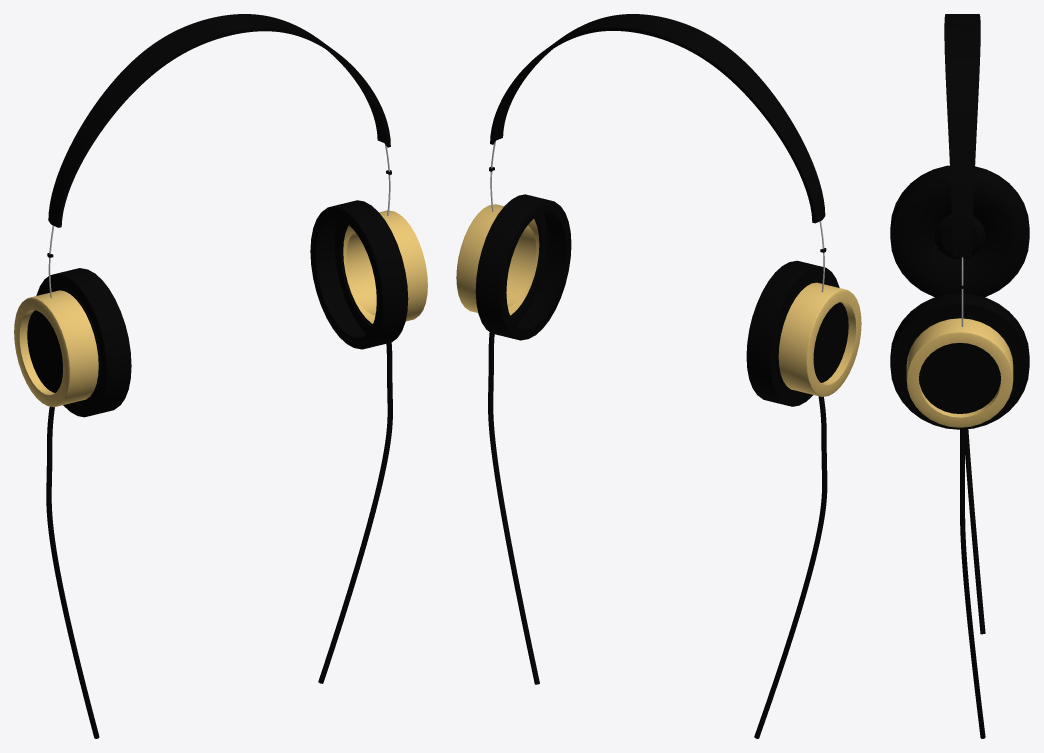
3 views of the same model, side by side, from view 1: azimuth 30°, elevation 25°; view 2: azimuth 150°, elevation 25°; view 3: azimuth 270°, elevation 25° (orthographic). The views are drawn at different scales.
Parts seen in each view (by area): view 1: Circle.004; view 2: Circle.004; view 3: Circle.004.
Boxes of the visible parts, left/top/right/bottom form: Circle.004: left=14, top=14, right=427, bottom=738; Circle.004: left=456, top=14, right=861, bottom=738; Circle.004: left=890, top=14, right=1029, bottom=738.
Size of the model in its own units: 135 by 248 by 47.65.
